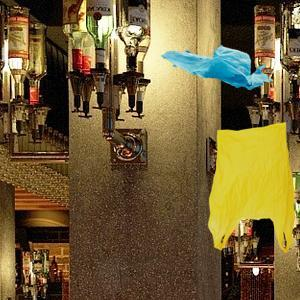plastic_bag: (206, 119, 297, 259)
